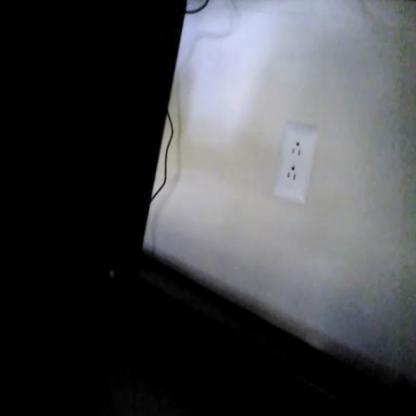OUTLET: (272, 127, 316, 204)
